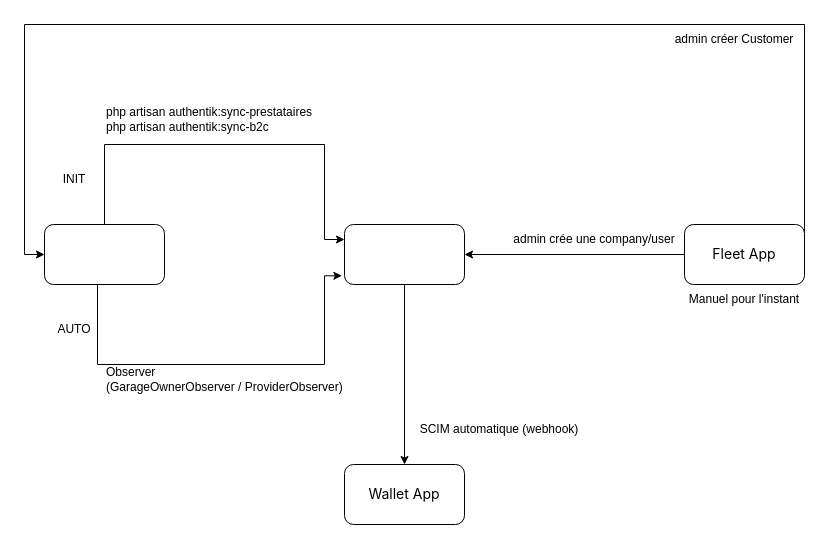
Some shapes in this 832 by 542 pixel diagram are drawn without their labels. Each missing label, with the box of its shape:
Authentik IDP: (344, 224, 464, 284)
Kounhany App: (44, 224, 164, 284)
